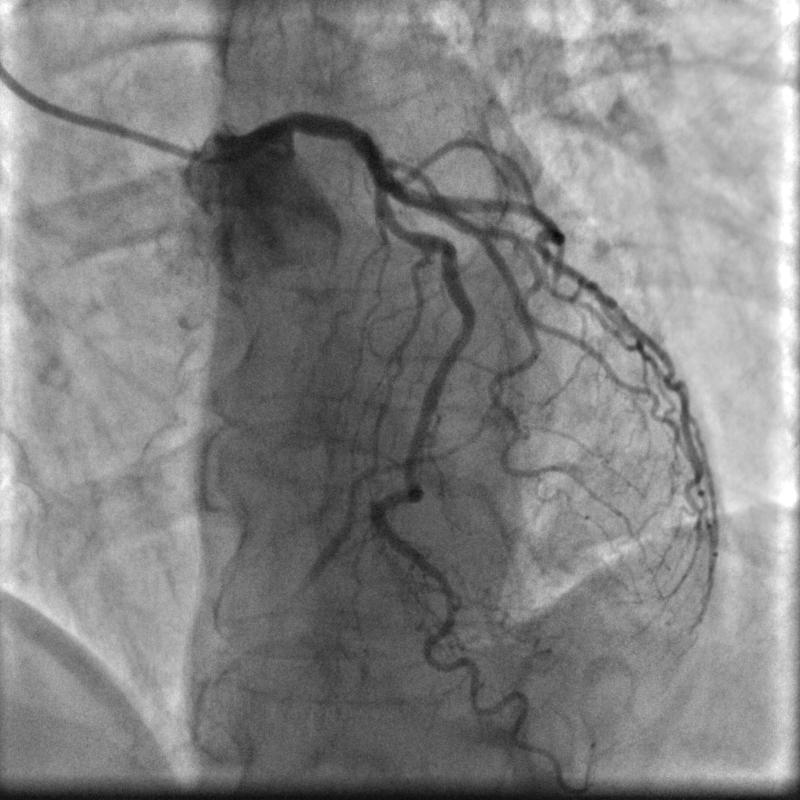Stenosis: (382, 215, 418, 240)
